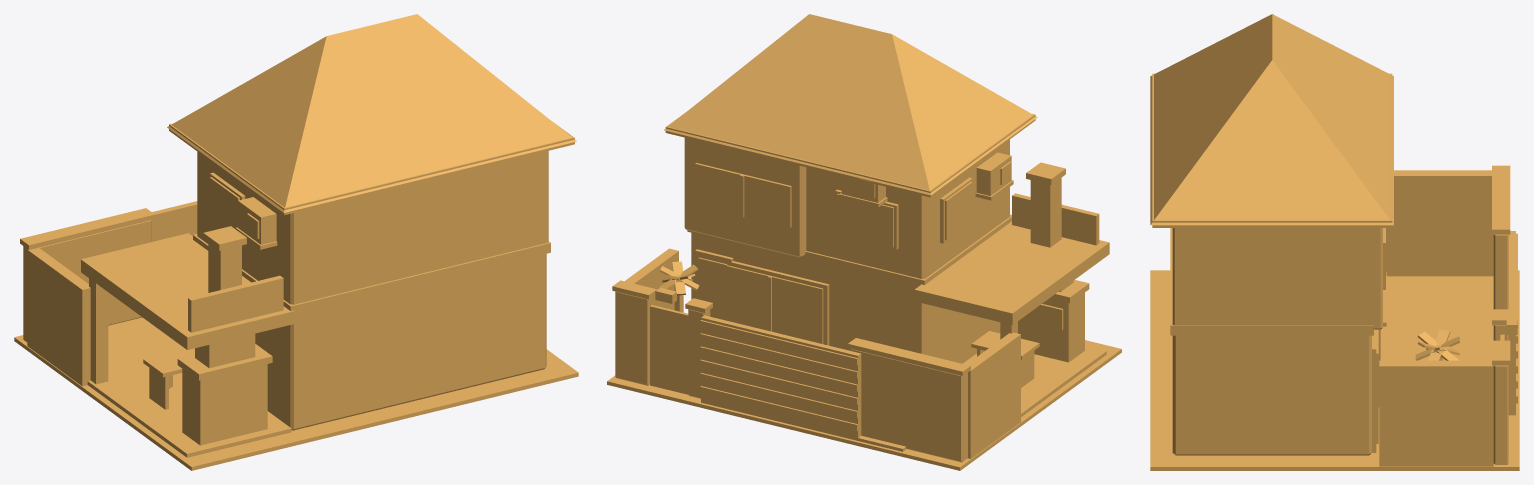
3 views of the same model, side by side, from view 1: azimuth 30°, elevation 25°; view 2: azimuth 150°, elevation 25°; view 3: azimuth 270°, elevation 25° (orthographic). The views are drawn at different scales.
Parts seen in each view (by area): view 1: corpo; view 2: corpo; view 3: corpo.
Part boxes in pixels (box(x1,y1,x2,y2)): corpo: box(14, 14, 578, 470); corpo: box(607, 14, 1121, 470); corpo: box(1150, 14, 1519, 470).
Size of the model in its own units: 1.26 by 1.07 by 1.
